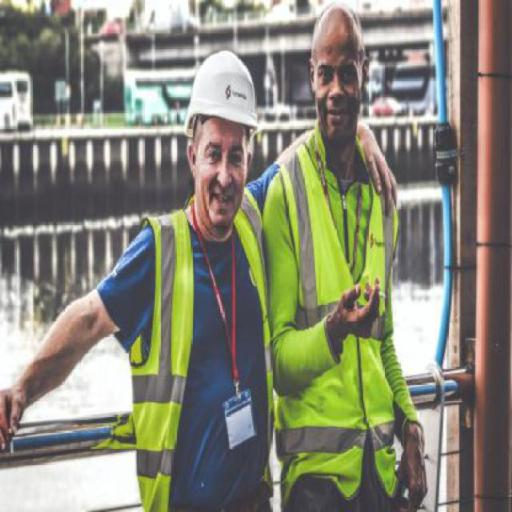hardhat: (178, 46, 264, 141)
person: (66, 21, 270, 511), (258, 2, 442, 512)
vest: (278, 125, 422, 504), (118, 190, 281, 510)
